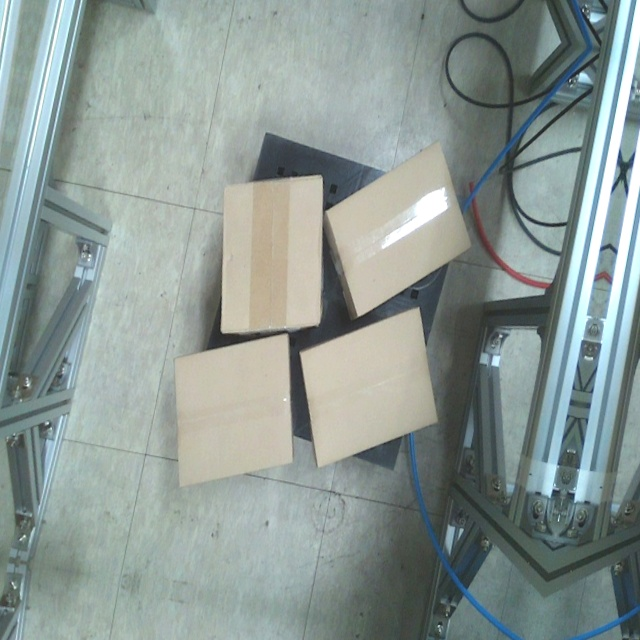box: (324, 139, 473, 317), (300, 307, 442, 466), (172, 332, 296, 489), (220, 174, 324, 334)
